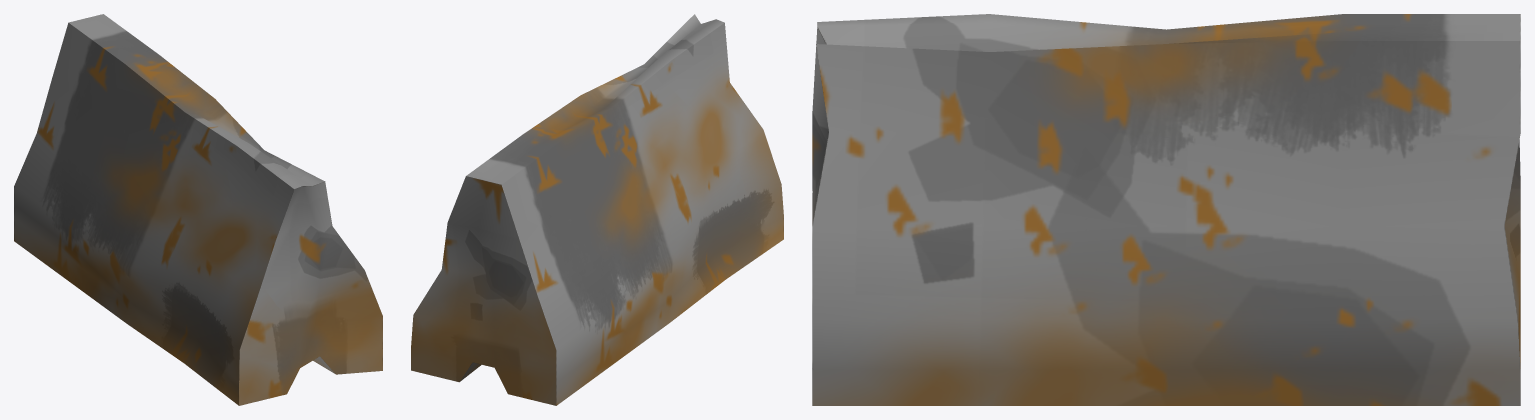
Rendered from barricade_05.fbx.
3 renders of one model, left to right at view 1: azimuth 30°, elevation 25°; view 2: azimuth 150°, elevation 25°; view 3: azimuth 270°, elevation 25°, orthographic. The views are drawn at different scales.
Visible parts, largest first — view 1: barricade_5; view 2: barricade_5; view 3: barricade_5.
Boxes of the visible parts, x1,y1,x2,y2 form: barricade_5: [14, 14, 382, 405]; barricade_5: [411, 14, 783, 405]; barricade_5: [812, 14, 1520, 405].
Size of the model in its own units: 2.4 by 3.28 by 6.51.
